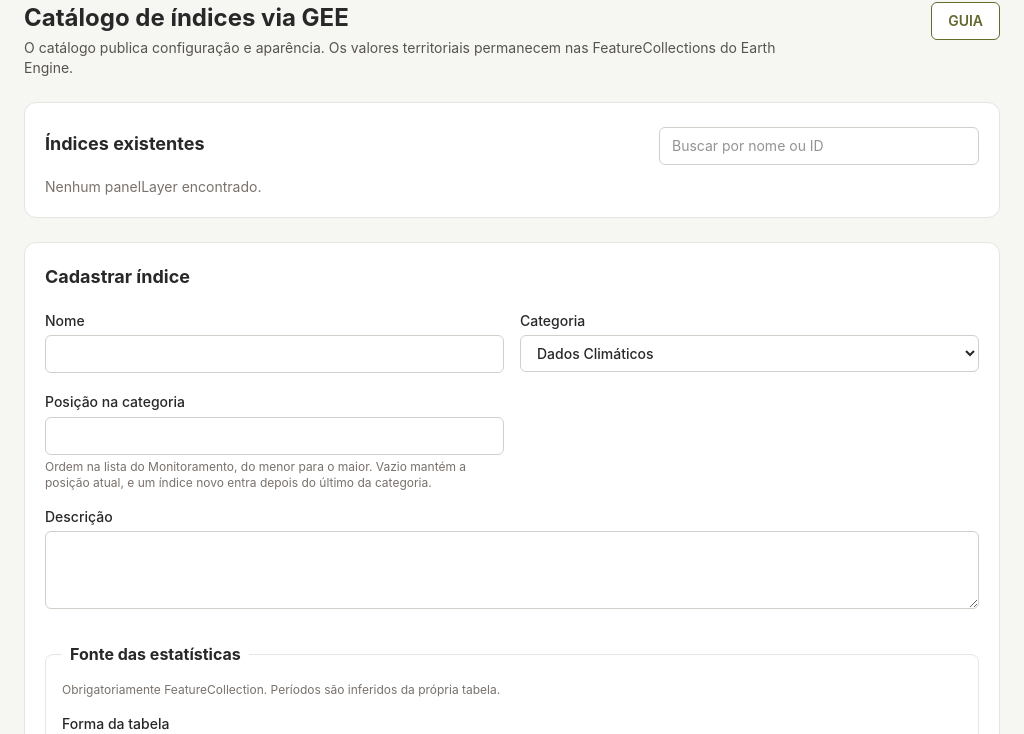
Test case: IndexCatalogScreen v2 › has no Drive/CSV controls and sends a statisticsSource contract
The image size is (1024, 734).
Check: the text "Nenhum panelLayer encontrado." is shown, box left=45, top=178, right=262, bottom=195
Type "Índice GEE" into the field labelled "Nome" at (274, 354), box left=45, top=335, right=504, bottom=373
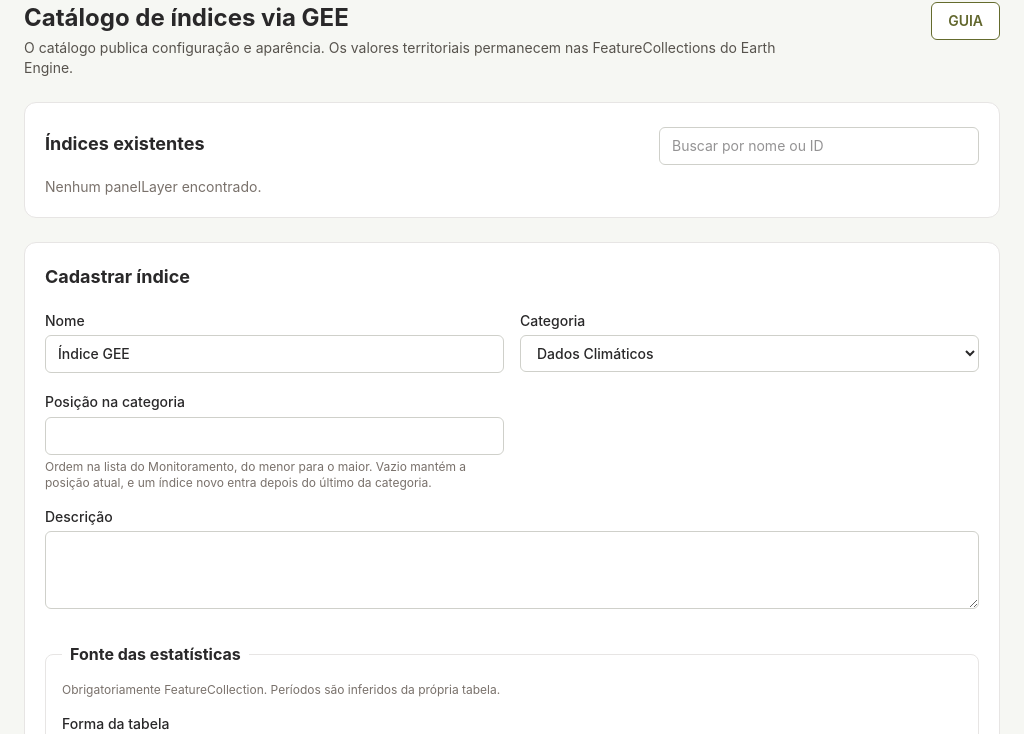
Type "Índice classificado" into the text box labelled "Descrição" at (512, 570), box left=45, top=531, right=979, bottom=609
(page scrolled)
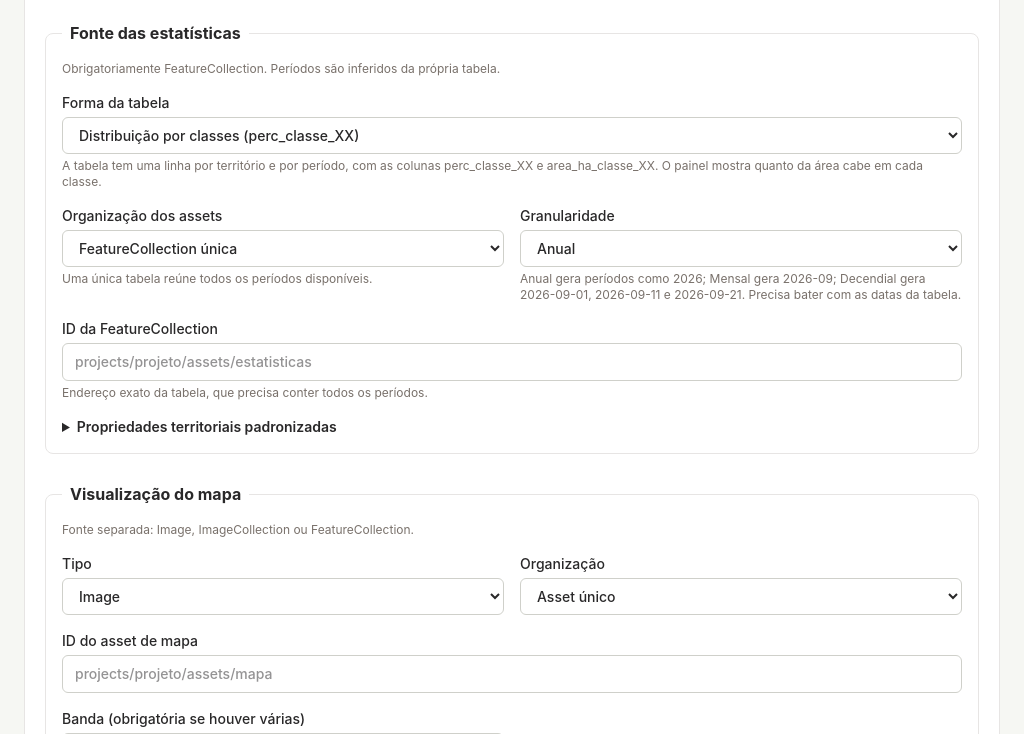
Type "projects/example/assets/statistics" into the field with placeholder "projects/projeto/assets/estatisticas" at (512, 362), box left=62, top=343, right=962, bottom=381
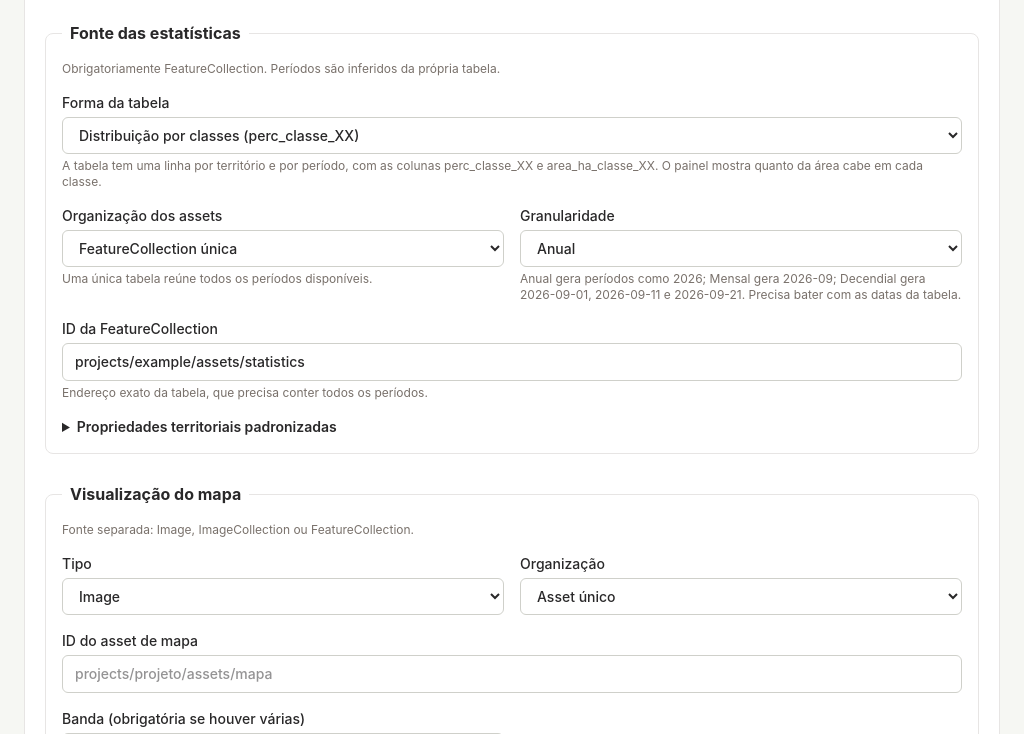
Type "projects/example/assets/map" into the field labelled "ID do asset de mapa" at (512, 674), box left=62, top=655, right=962, bottom=693
(page scrolled)
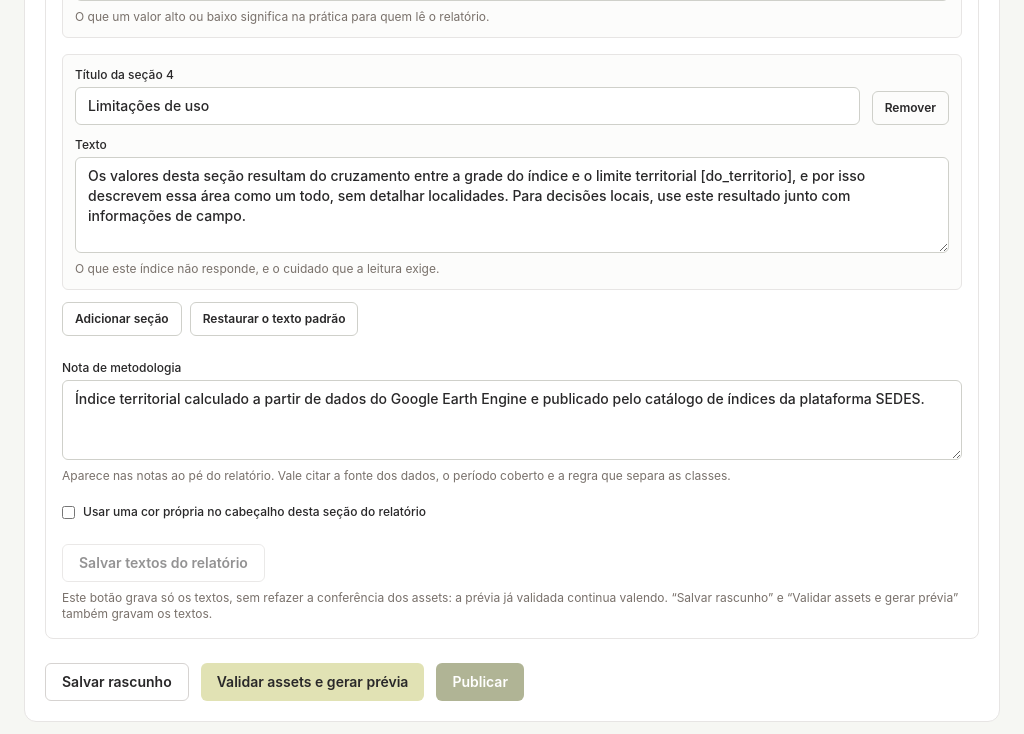
Click the button "Salvar rascunho" at (117, 682), box left=45, top=663, right=189, bottom=701
(page scrolled)
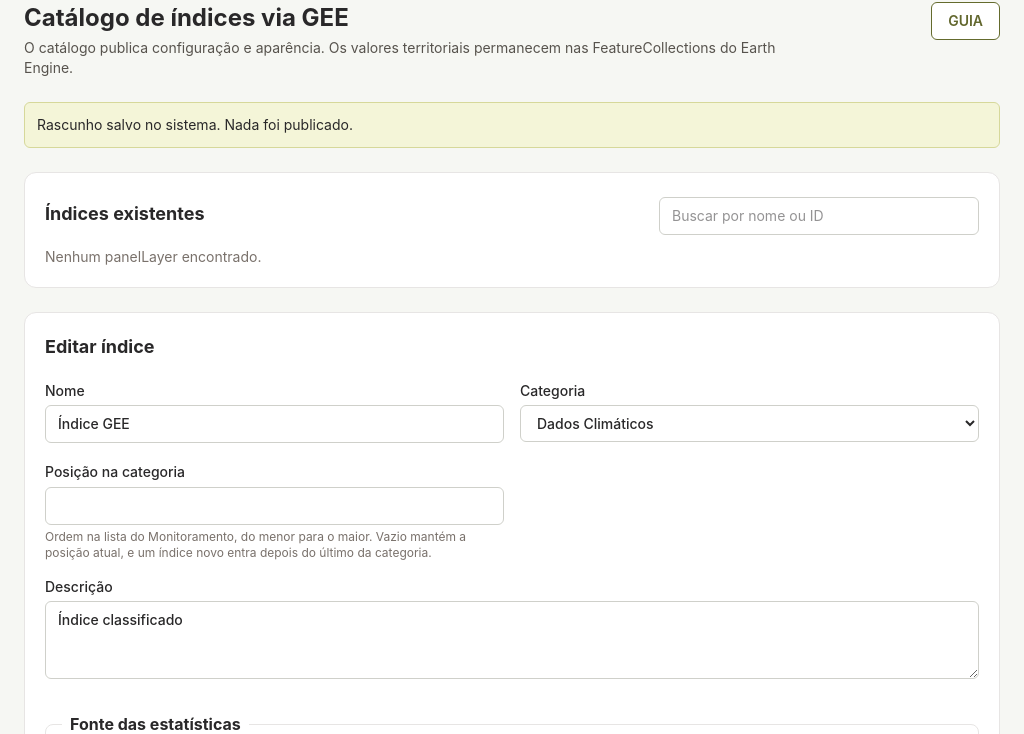
Check: the text "Rascunho salvo no sistema. Nada foi publicado." is shown, box left=24, top=102, right=1000, bottom=148
